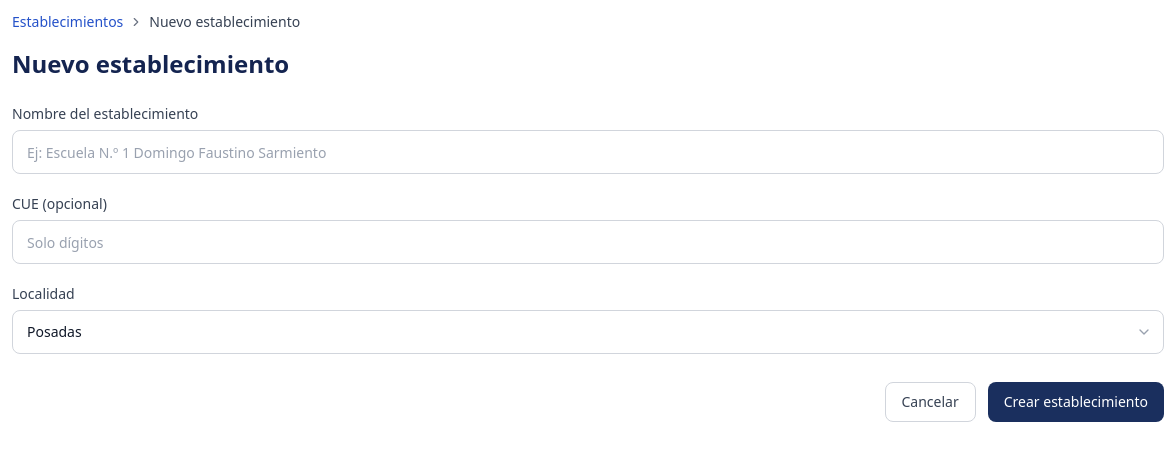
Test: EstablecimientoFormPage: errores de la base (criterios 3, 4 y 6) › con el nombre repetido en la localidad marca el campo nombre y no navega
Expected: the dropdown labelled "Localidad" shows "Posadas", [12, 310, 1164, 354]
Type "Escuela Nueva" into the field labelled "Nombre del establecimiento" at (588, 152), box [12, 130, 1164, 174]
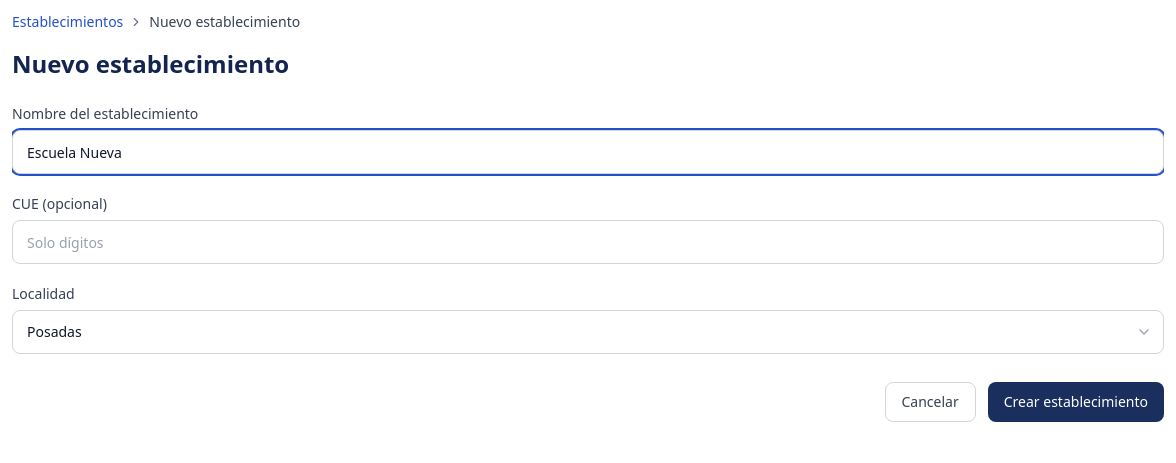
Click the button "Crear establecimiento" at (1076, 402), box [988, 382, 1164, 422]
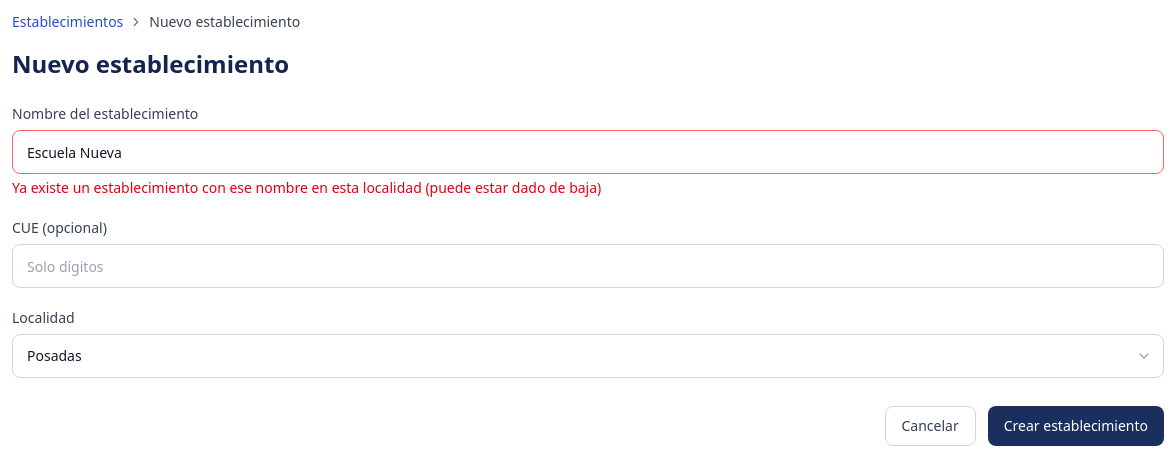
Now the text "Ya existe un establecimiento con ese nombre en esta localidad (puede estar dado de baja)" is shown, box [12, 178, 601, 197]
